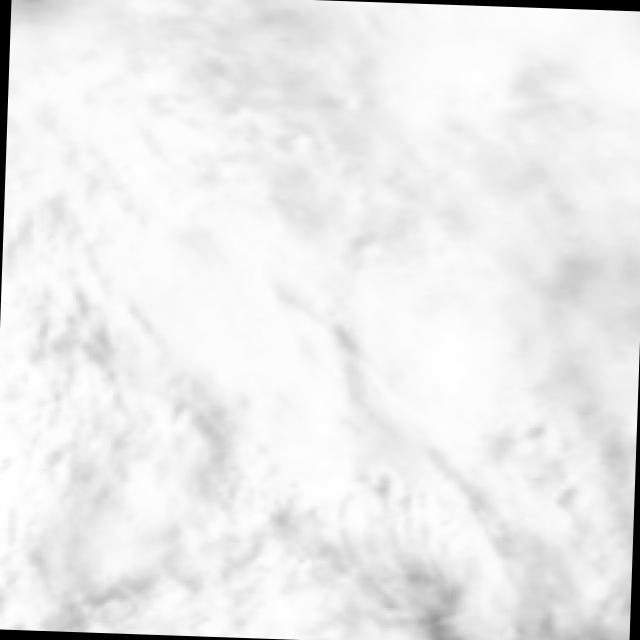CB: (134, 130, 511, 412), (356, 2, 635, 170)
